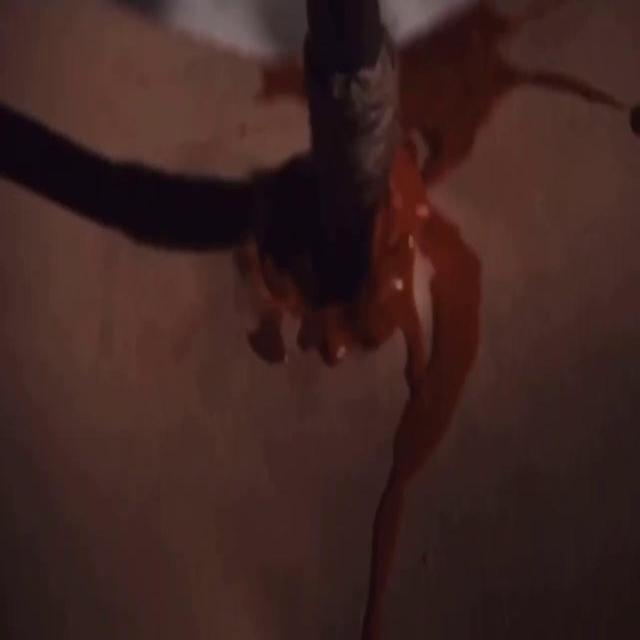flood: (248, 7, 488, 640)
